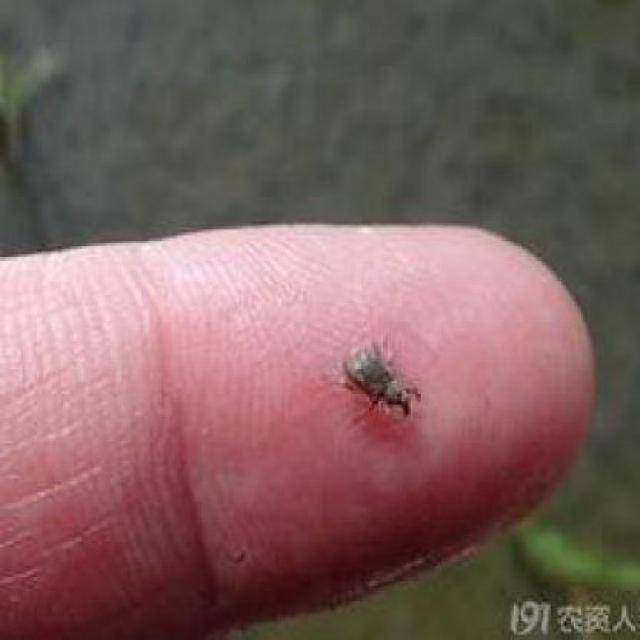rice-bug: (338, 337, 420, 421)
